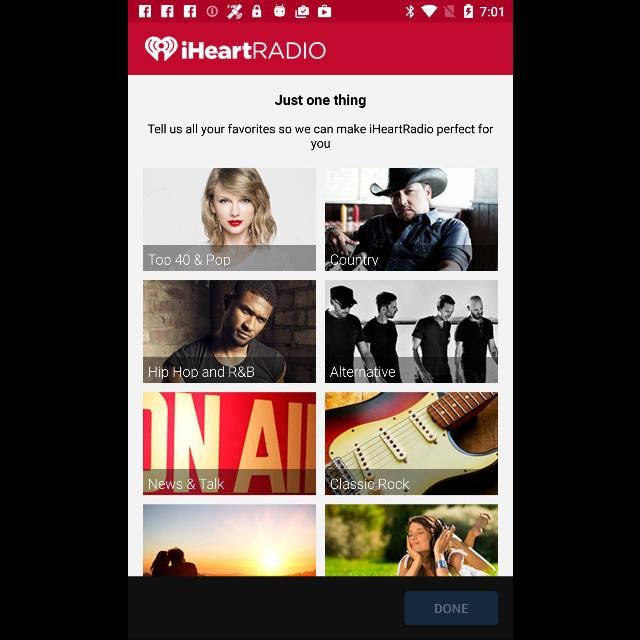image: (324, 392, 498, 496), (142, 392, 316, 496), (324, 168, 498, 272), (142, 168, 316, 272), (324, 281, 498, 384), (142, 281, 316, 384), (324, 504, 498, 576), (142, 504, 316, 576), (144, 36, 326, 62)
text: (147, 124, 493, 150), (274, 94, 366, 108), (148, 366, 254, 378), (147, 254, 229, 266), (330, 478, 408, 489), (148, 478, 224, 489), (330, 367, 394, 378), (330, 255, 378, 267)
textbutton: (404, 591, 498, 625)
toolbar: (128, 23, 512, 75)
uppertaskbar: (128, 1, 512, 23)
